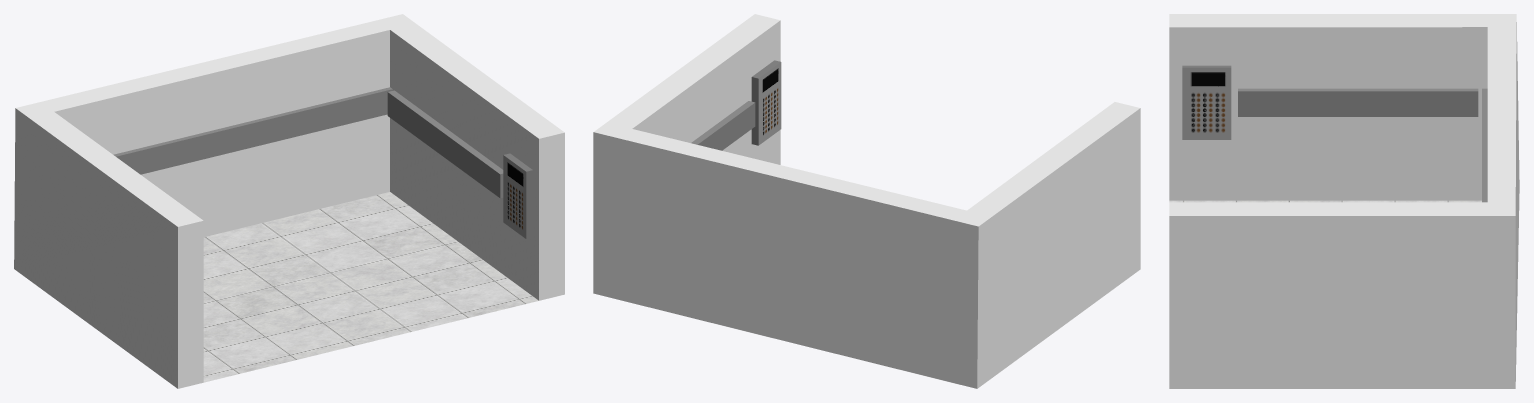
Rendered from Elevator.fbx.
3 views of the same model, side by side, from view 1: azimuth 30°, elevation 25°; view 2: azimuth 150°, elevation 25°; view 3: azimuth 270°, elevation 25° (orthographic). The views are drawn at different scales.
Parts seen in each view (by area): view 1: EleWalls, ElevatorBar3, ElevatorBar4, ElevatorControlPanel1; view 2: EleWalls, ElevatorControlPanel1, ElevatorBar4; view 3: EleWalls, ElevatorBar1, ElevatorControlPanel2, ElevatorBar3.
Part boxes in pixels (left/top/right/bottom): EleWalls: left=14, top=14, right=564, bottom=388; ElevatorBar3: left=113, top=87, right=392, bottom=174; ElevatorBar4: left=387, top=90, right=503, bottom=198; ElevatorControlPanel1: left=503, top=153, right=532, bottom=238; EleWalls: left=593, top=14, right=1140, bottom=388; ElevatorControlPanel1: left=751, top=60, right=781, bottom=145; ElevatorBar4: left=691, top=101, right=755, bottom=150; EleWalls: left=1169, top=14, right=1519, bottom=388; ElevatorBar1: left=1238, top=88, right=1478, bottom=116; ElevatorControlPanel2: left=1182, top=65, right=1231, bottom=139; ElevatorBar3: left=1482, top=88, right=1487, bottom=202.
Size of the model in its own units: 7.5 by 3 by 5.5.
